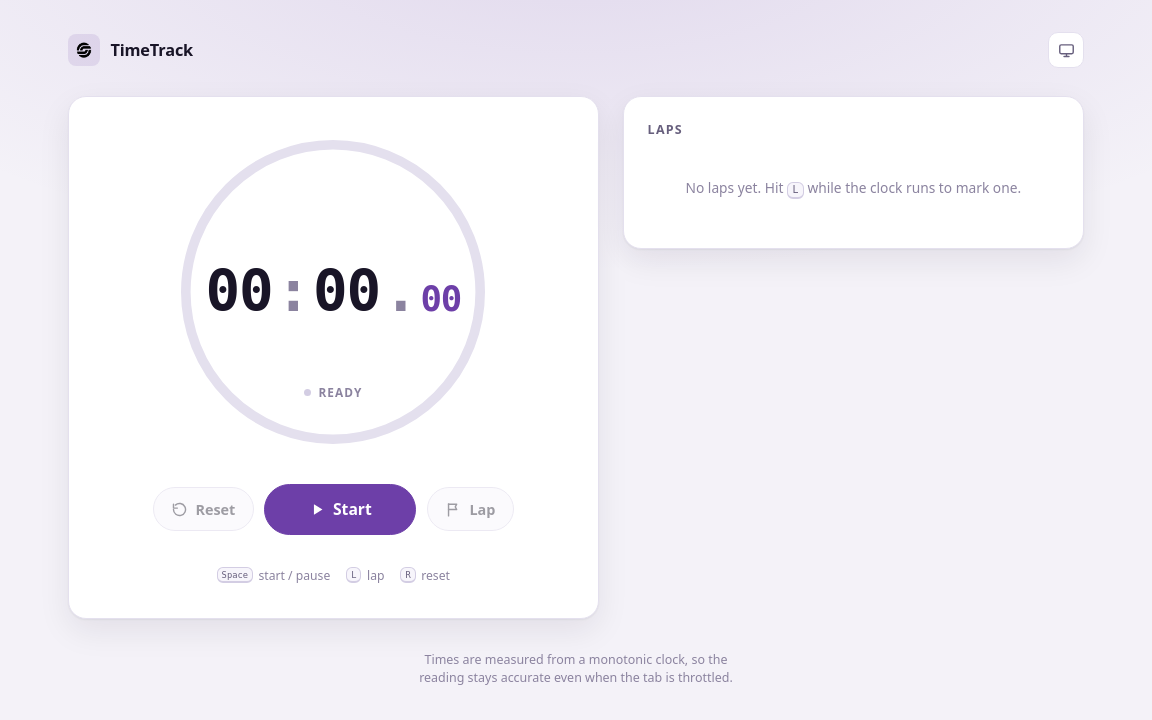
Test: TimeTrack › disables Lap unless the clock is running, and Reset until it has moved
This screenshot has width=1152, height=720.
Check: the button "Lap" is disabled, box [427, 488, 514, 531]
Check: the button "Reset" is disabled, box [153, 488, 254, 531]
Click the button "Start".
click(340, 509)  # box [264, 484, 416, 535]
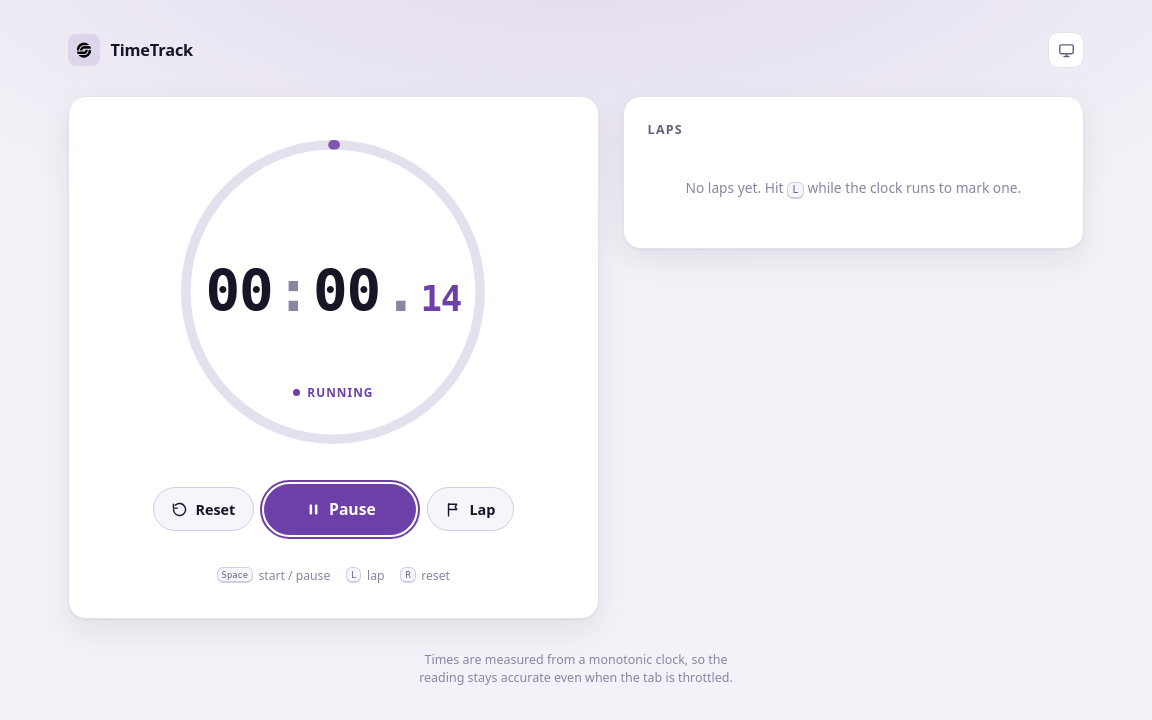
Check: the button "Lap" is enabled, box [427, 488, 514, 531]
Check: the button "Reset" is enabled, box [153, 488, 254, 531]
Click the button "Pause".
click(340, 509)  # box [264, 484, 416, 535]
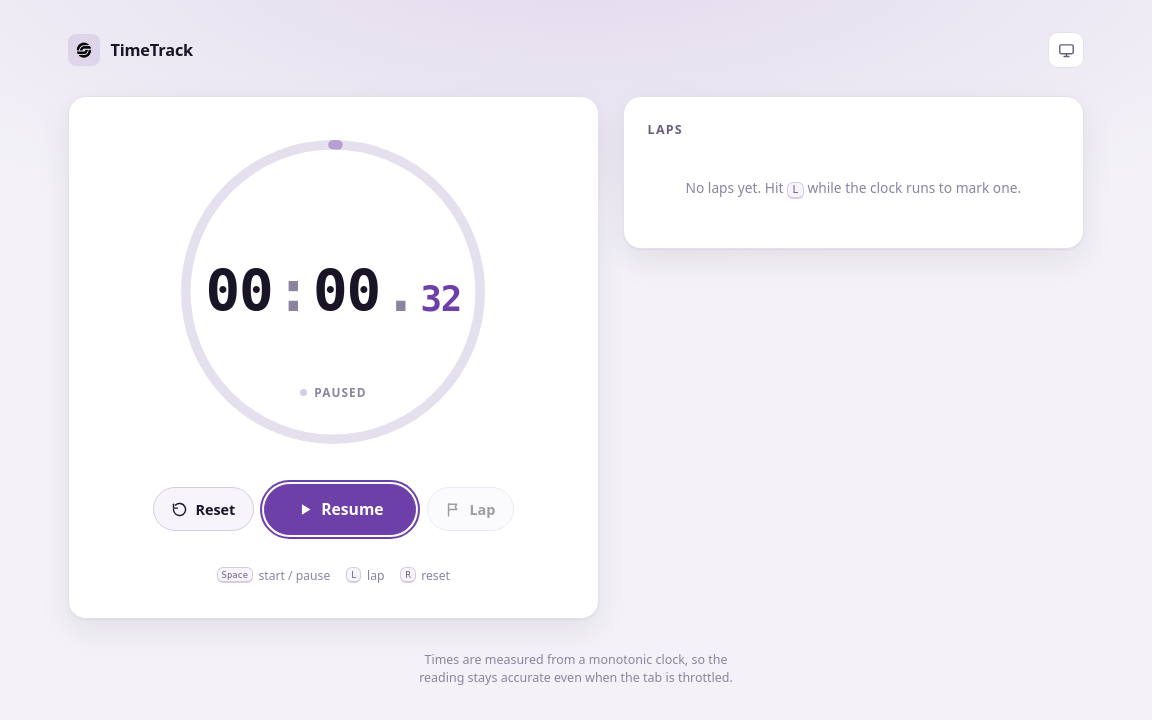
Check: the button "Lap" is disabled, box [427, 488, 514, 531]
